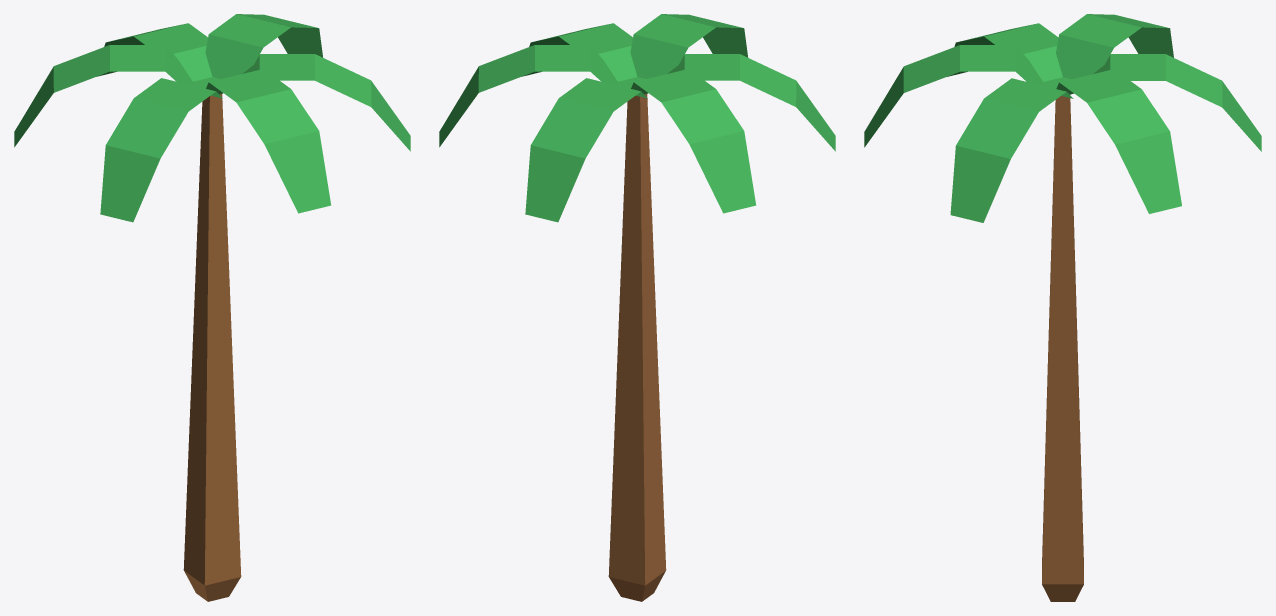
File: palm.glb
The picture shows the model from 3 angles, left to right: view 1: azimuth 30°, elevation 25°; view 2: azimuth 150°, elevation 25°; view 3: azimuth 270°, elevation 25°; orthographic projection.
Visible parts, largest first — view 1: tree_palm; view 2: tree_palm; view 3: tree_palm.
Part boxes in pixels (x1,y1,x2,y2): tree_palm: [14, 14, 410, 601]; tree_palm: [439, 14, 835, 601]; tree_palm: [864, 14, 1261, 601].
Bounding box in the file's own units: 3.74 × 6.06 × 4.05.
